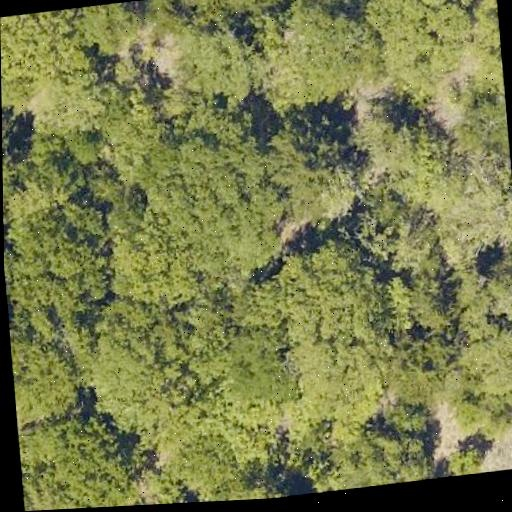tree-top: (146, 99, 287, 285), (279, 235, 398, 434), (76, 299, 198, 436), (254, 0, 393, 113), (4, 198, 120, 319), (264, 104, 365, 240), (17, 409, 133, 511), (361, 0, 482, 89), (428, 328, 512, 432), (318, 421, 441, 492), (168, 17, 260, 109), (0, 8, 79, 115), (349, 93, 437, 185), (176, 273, 246, 383), (218, 323, 289, 414), (161, 425, 235, 502), (386, 267, 457, 338), (455, 163, 512, 249), (76, 0, 149, 61), (154, 0, 290, 32), (451, 93, 510, 165), (234, 260, 282, 322), (228, 472, 295, 501), (442, 439, 491, 477), (486, 250, 512, 321)
